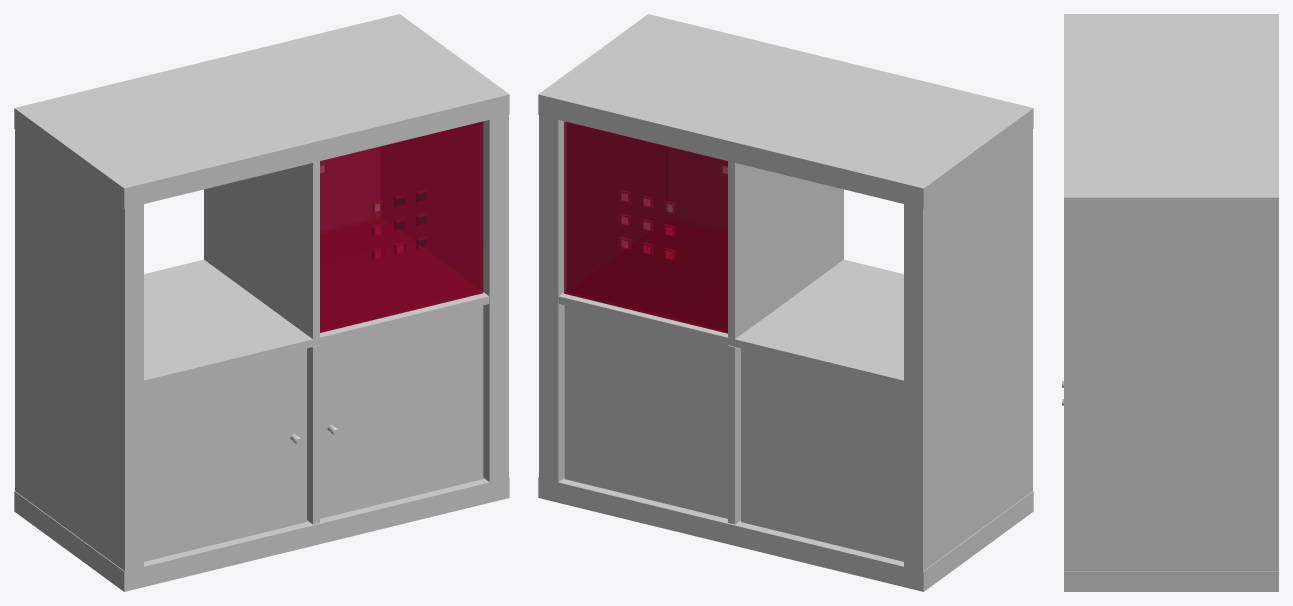
File: sh_blend_swap_cc_0_shelves.glb
The picture shows the model from 3 angles, left to right: view 1: azimuth 30°, elevation 25°; view 2: azimuth 150°, elevation 25°; view 3: azimuth 270°, elevation 25°; orthographic projection. The views are drawn at different scales.
Size of the model in its own units: 0.79 by 0.79 by 0.394.
